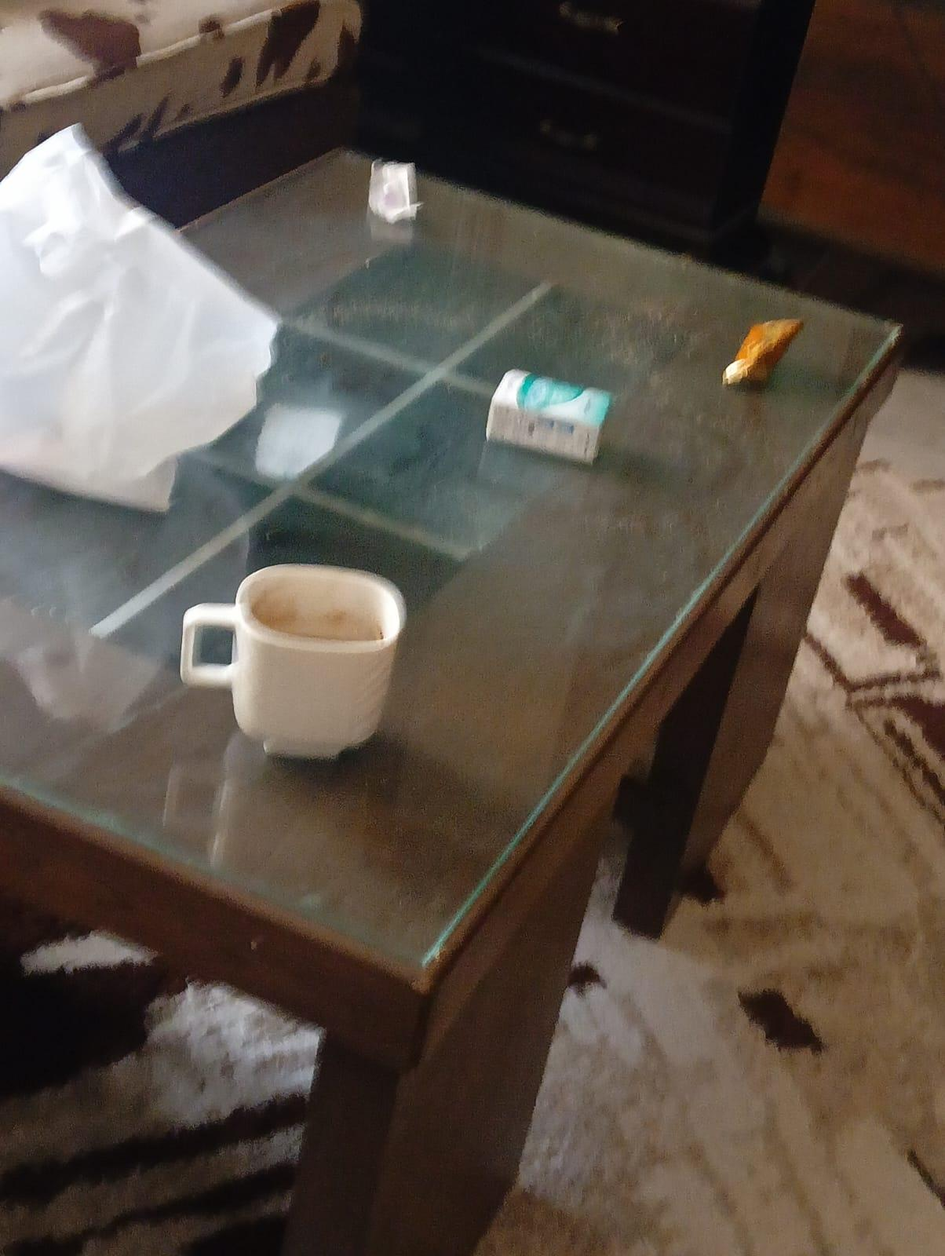cup: (180, 564, 405, 758)
